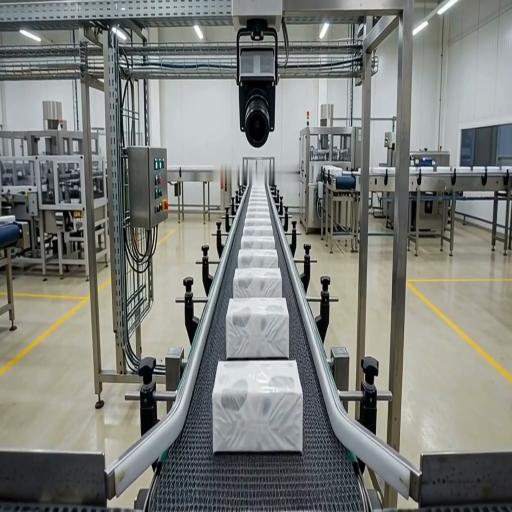good: (212, 360, 302, 454), (224, 295, 290, 360), (231, 268, 283, 300), (237, 248, 280, 270), (241, 202, 275, 225), (238, 236, 277, 252), (243, 186, 269, 208), (241, 224, 275, 238)
